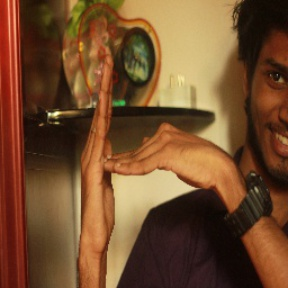Z: (73, 50, 224, 246)
